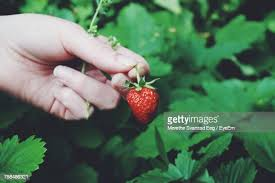ripe: (123, 84, 155, 131)
